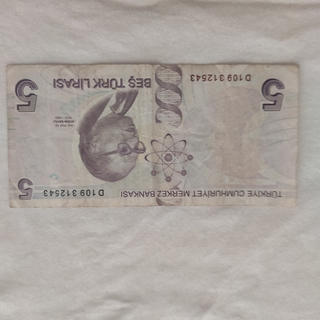5TLBack: (6, 62, 298, 208)
